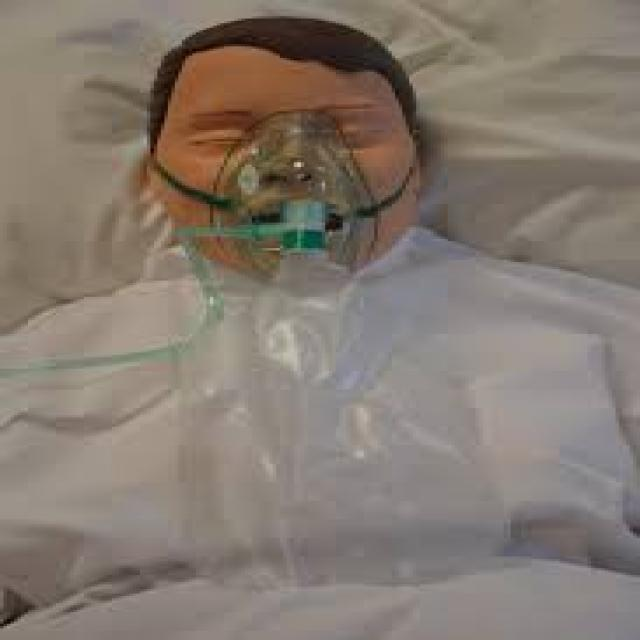oxygen_mask: (227, 143, 383, 320)
